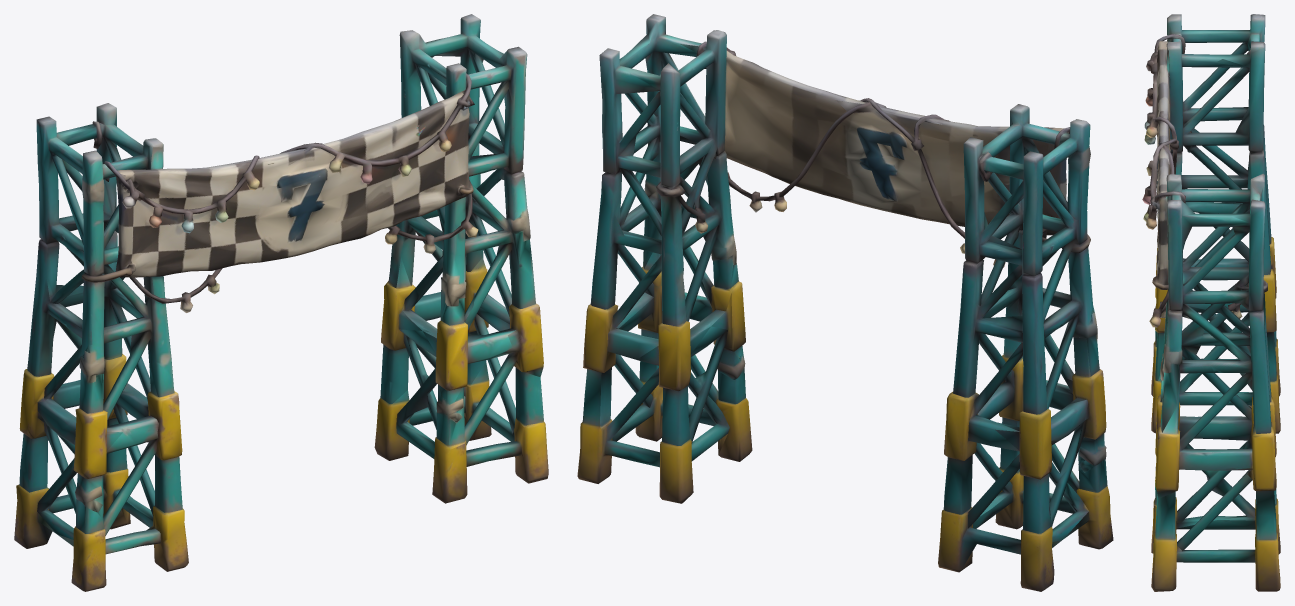
File: finish_arch.glb
3 renders of one model, left to right at view 1: azimuth 30°, elevation 25°; view 2: azimuth 150°, elevation 25°; view 3: azimuth 270°, elevation 25°, orthographic. The views are drawn at different scales.
Parts seen in each view (by area): view 1: tripo_part_0, tripo_part_2, tripo_part_1, tripo_part_4, tripo_part_5, tripo_part_3, tripo_part_14, tripo_part_16, tripo_part_12, tripo_part_10, tripo_part_13, tripo_part_20 (+6 smaller); view 2: tripo_part_0, tripo_part_1, tripo_part_2, tripo_part_4, tripo_part_5, tripo_part_10, tripo_part_12, tripo_part_14, tripo_part_9, tripo_part_20, tripo_part_21, tripo_part_3 (+4 smaller); view 3: tripo_part_1, tripo_part_0, tripo_part_4, tripo_part_2, tripo_part_3, tripo_part_23, tripo_part_5, tripo_part_17, tripo_part_9, tripo_part_26, tripo_part_19, tripo_part_10 (+5 smaller).
Boxes of the visible parts, x1,y1,x2,y2 form: tripo_part_0: [27, 103, 174, 553]; tripo_part_2: [115, 92, 473, 277]; tripo_part_1: [387, 14, 535, 458]; tripo_part_4: [374, 257, 548, 503]; tripo_part_5: [14, 366, 188, 591]; tripo_part_3: [103, 97, 469, 312]; tripo_part_14: [73, 408, 122, 479]; tripo_part_16: [435, 296, 474, 390]; tripo_part_12: [19, 369, 80, 438]; tripo_part_10: [381, 257, 421, 350]; tripo_part_13: [436, 384, 465, 449]; tripo_part_20: [19, 433, 48, 492]; tripo_part_0: [953, 104, 1107, 542]; tripo_part_1: [590, 14, 738, 461]; tripo_part_2: [713, 51, 1068, 235]; tripo_part_4: [577, 250, 752, 503]; tripo_part_5: [938, 298, 1113, 591]; tripo_part_10: [638, 321, 710, 391]; tripo_part_12: [995, 409, 1058, 479]; tripo_part_14: [1050, 337, 1106, 439]; tripo_part_9: [944, 391, 978, 460]; tripo_part_20: [1023, 473, 1051, 533]; tripo_part_21: [660, 386, 690, 445]; tripo_part_3: [729, 50, 1070, 267]; tripo_part_1: [1160, 173, 1271, 532]; tripo_part_0: [1155, 14, 1271, 405]; tripo_part_4: [1151, 406, 1280, 591]; tripo_part_2: [1152, 41, 1171, 289]; tripo_part_3: [1142, 34, 1185, 229]; tripo_part_23: [1179, 448, 1252, 470]; tripo_part_5: [1151, 287, 1280, 433]; tripo_part_17: [1177, 470, 1252, 551]; tripo_part_9: [1242, 269, 1276, 332]; tripo_part_26: [1176, 520, 1255, 530]; tripo_part_19: [1266, 331, 1276, 381]; tripo_part_10: [1245, 395, 1276, 456].
Size of the model in its own units: 0.9806 by 0.8519 by 0.2798.
Materials: 1 (1 with a texture image).
